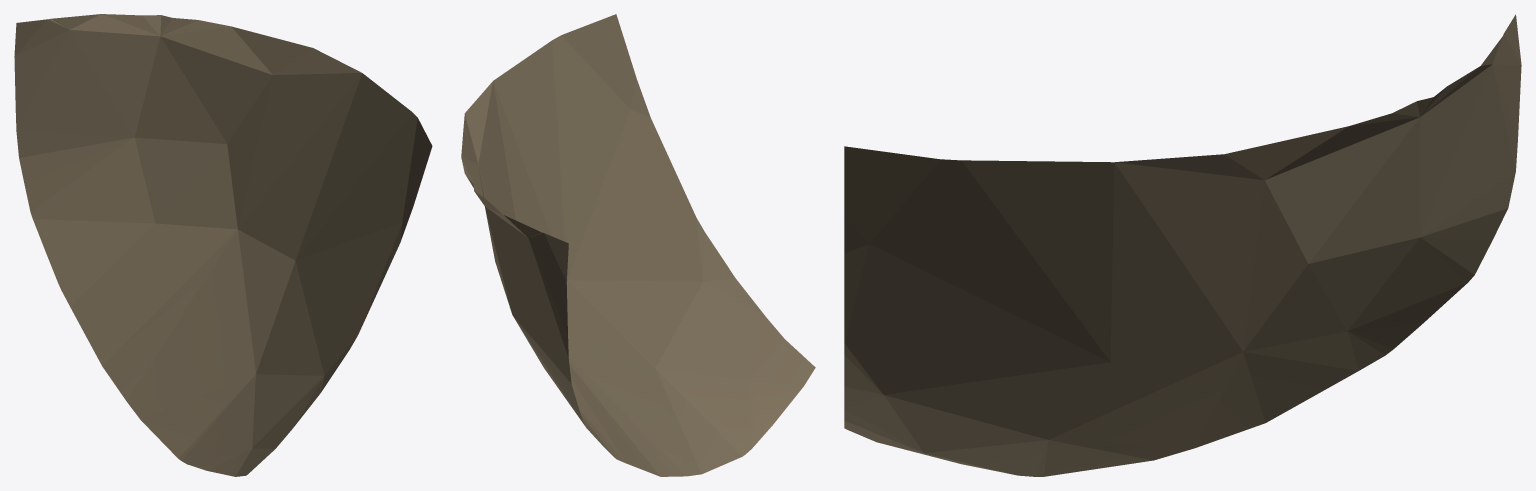
Rendered from bisect-8-2-5.gltf.
3 views of the same model, side by side, from view 1: azimuth 30°, elevation 25°; view 2: azimuth 150°, elevation 25°; view 3: azimuth 270°, elevation 25° (orthographic). The views are drawn at different scales.
Parts seen in each view (by area): view 1: bisect-8-2-5; view 2: bisect-8-2-5; view 3: bisect-8-2-5.
Part boxes in pixels (box(x1,y1,x2,y2)): bisect-8-2-5: box(14, 14, 432, 476); bisect-8-2-5: box(461, 14, 815, 476); bisect-8-2-5: box(844, 14, 1521, 476).
Bounding box in the file's own units: 4.56 × 6.64 × 8.8.
